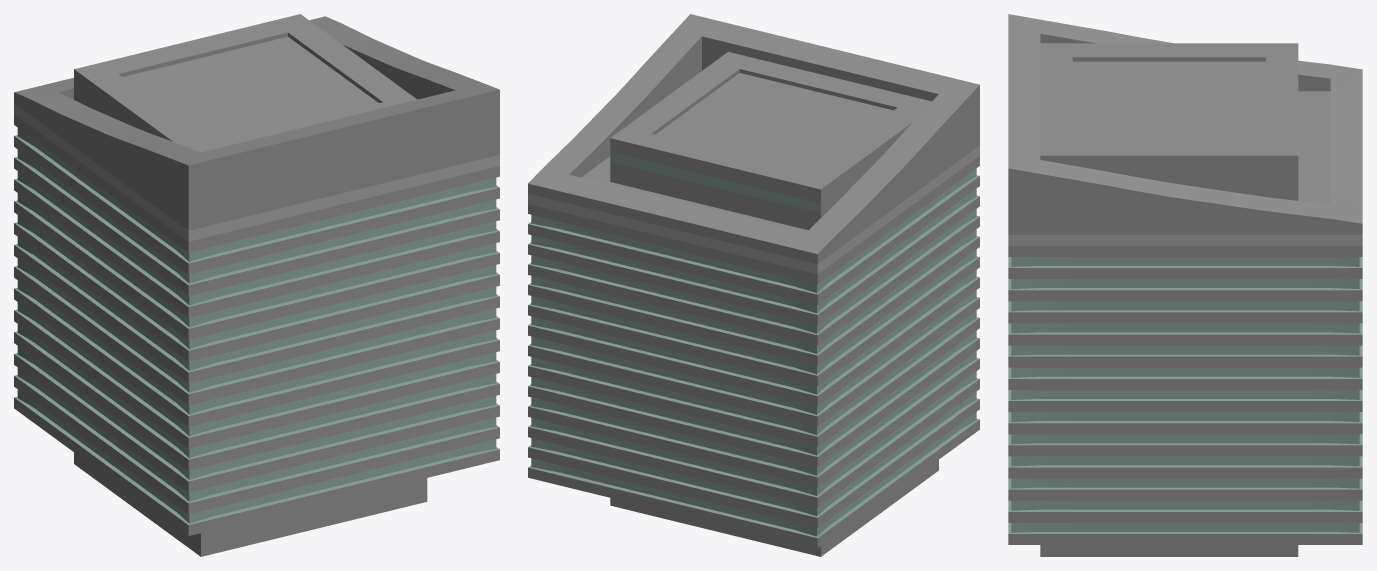
The model's file is SpecialBuilding1.fbx.
The picture shows the model from 3 angles, left to right: view 1: azimuth 30°, elevation 25°; view 2: azimuth 150°, elevation 25°; view 3: azimuth 270°, elevation 25°; orthographic projection. The views are drawn at different scales.
Parts seen in each view (by area): view 1: pCube188; view 2: pCube188; view 3: pCube188.
Boxes of the visible parts, x1,y1,x2,y2 form: pCube188: (14, 14, 499, 556); pCube188: (528, 14, 979, 556); pCube188: (1008, 14, 1362, 556).
Size of the model in its own units: 13.93 by 17.54 by 13.52.
